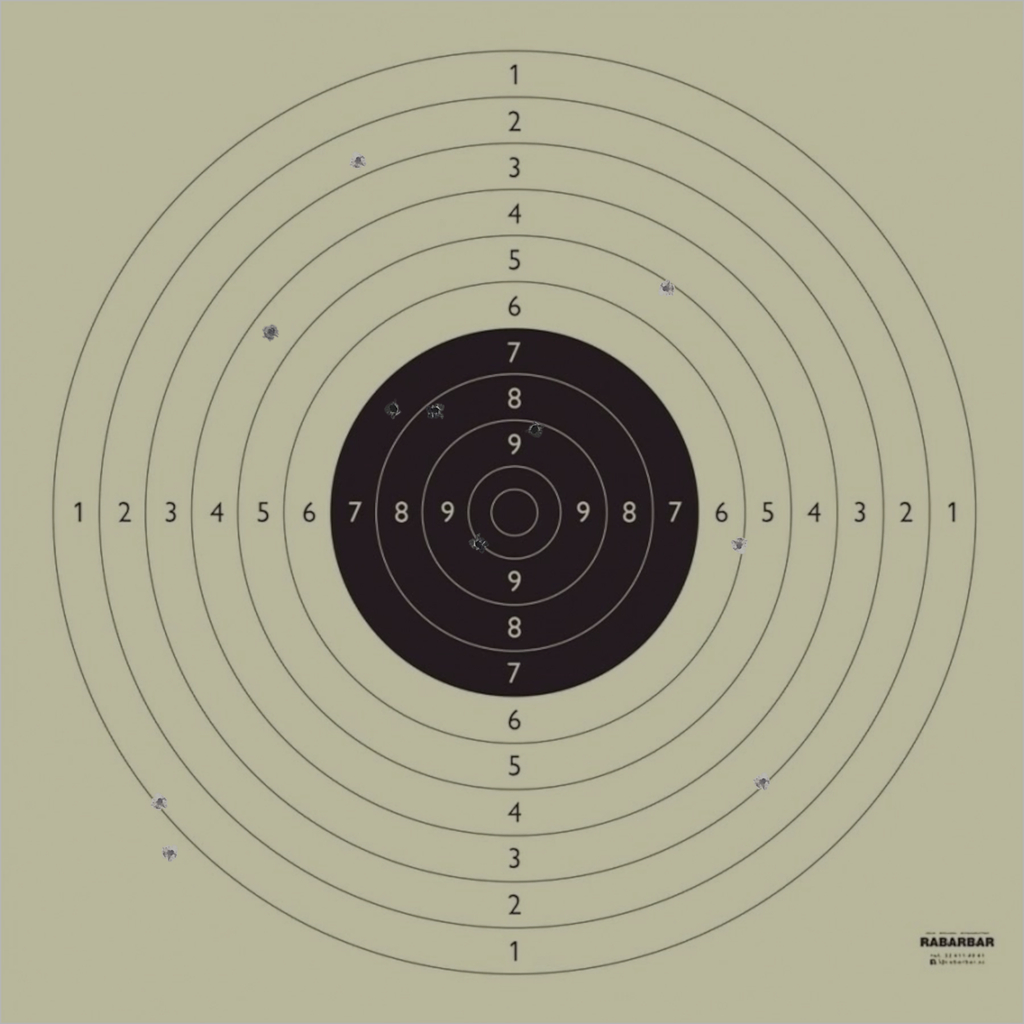0 punktow: (161, 844, 180, 862)
1 punkt: (151, 793, 169, 811)
10 punktow: (470, 535, 488, 554)
2 punkty: (349, 151, 368, 170)
3 punkty: (754, 773, 772, 791)
4 punkty: (262, 323, 280, 341)
5 punktow: (657, 279, 675, 298)
6 punktow: (730, 536, 748, 555)
7 punktow: (384, 400, 403, 418)
8 punktow: (426, 401, 444, 420)
9 punktow: (526, 420, 544, 438)
